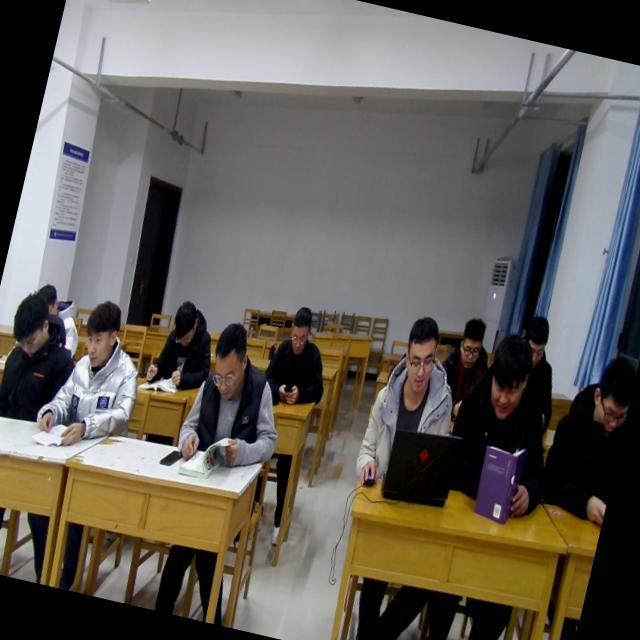down: (474, 326, 540, 425), (202, 316, 262, 406), (583, 348, 640, 434), (394, 311, 446, 397), (1, 283, 55, 361), (76, 294, 127, 376), (449, 308, 491, 374), (280, 297, 320, 359), (167, 288, 204, 348), (518, 306, 556, 362), (33, 272, 66, 316)
sit: (434, 319, 572, 524), (350, 306, 476, 506), (31, 288, 156, 460), (170, 318, 298, 480), (539, 342, 640, 517), (490, 306, 578, 424), (0, 287, 74, 424), (258, 297, 344, 413), (144, 290, 224, 394), (8, 268, 87, 370), (436, 306, 496, 410)
